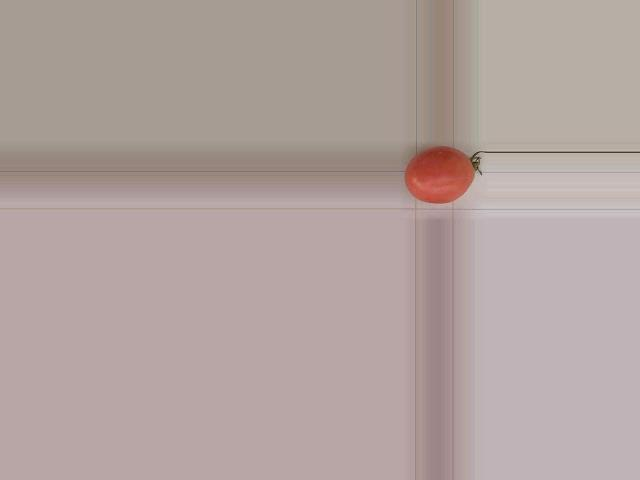tomato: (404, 146, 475, 203)
